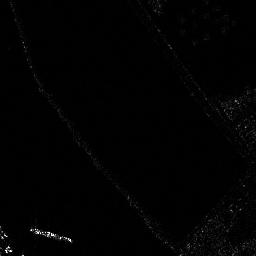ship: (30, 228, 74, 242)
